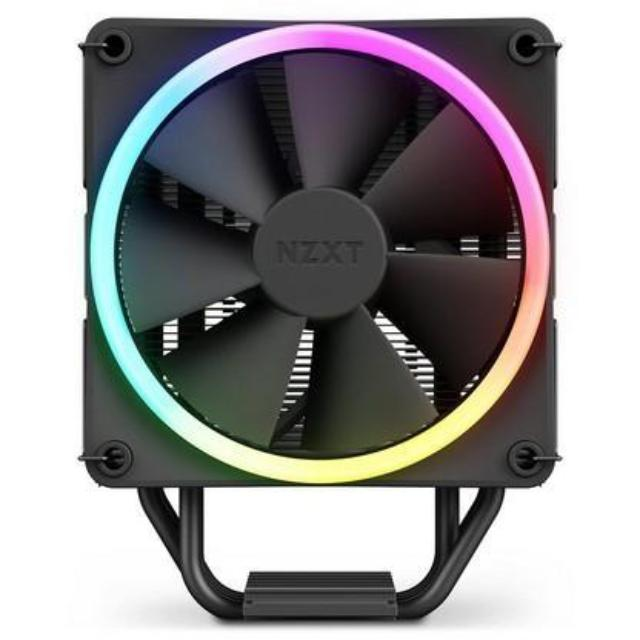CPU_Fan: (78, 10, 560, 627)
